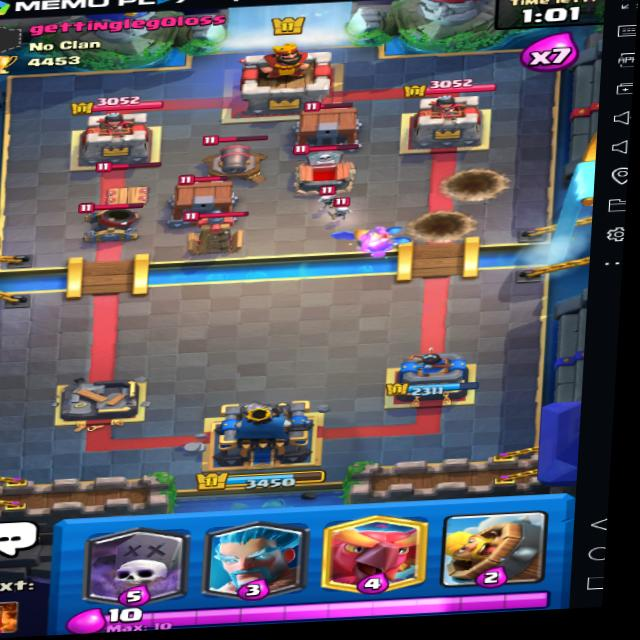Cannon: (192, 127, 282, 190)
Goblincage: (151, 171, 248, 231), (283, 95, 368, 151)
Mortar: (70, 194, 147, 249)
Skeleton: (315, 184, 344, 208), (329, 195, 355, 221)
Tesla: (180, 206, 255, 257)
Teslahidden: (91, 151, 163, 210)
Tombstone: (289, 138, 364, 191)
